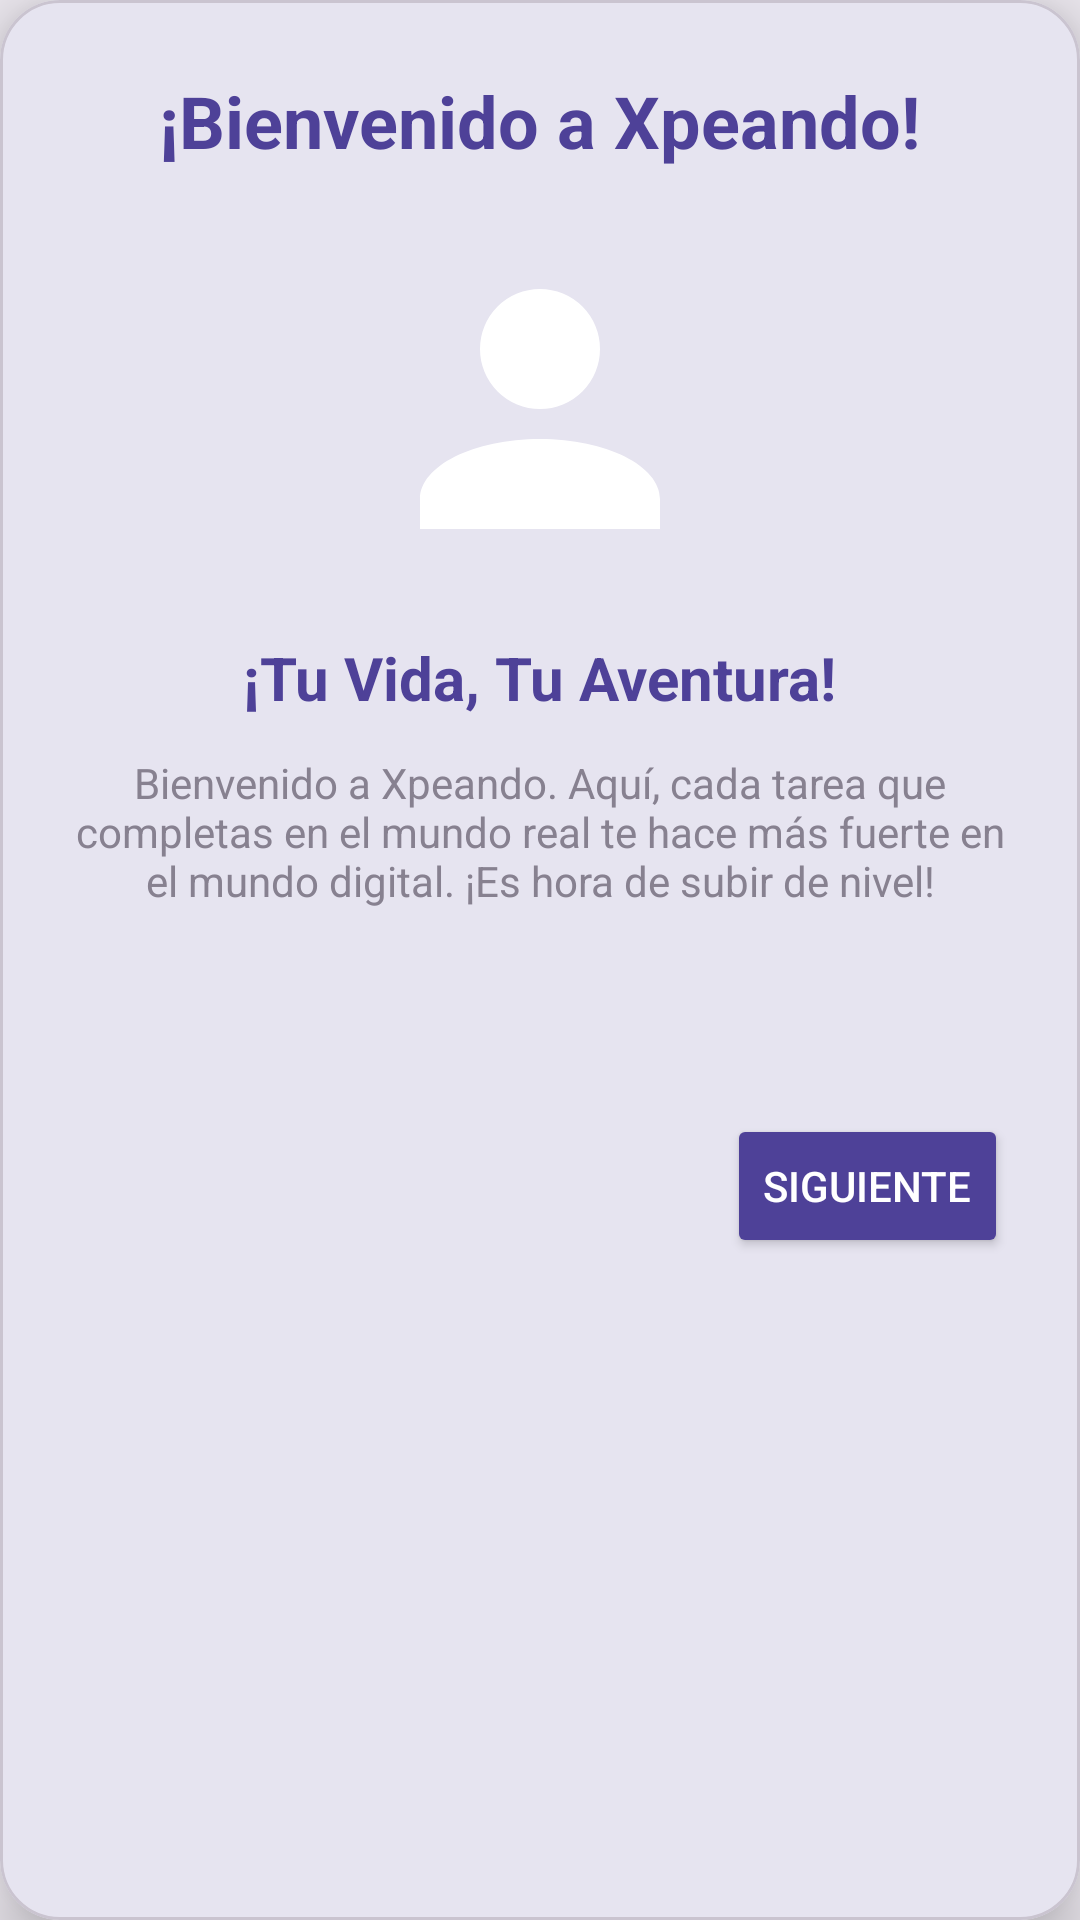

Locate icon controls on the screen. Image size 1080x1920, boxes as {"x1": x1, "y1": y1, "x2": x2, "y2": y2}.
personaje: {"x1": 420, "y1": 289, "x2": 660, "y2": 529}
